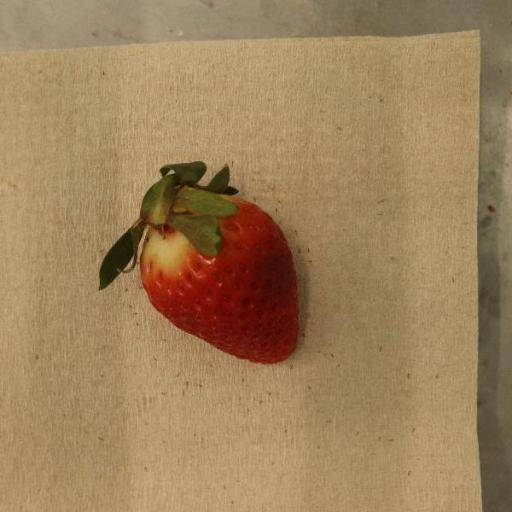Strawberry: (99, 162, 298, 366)
